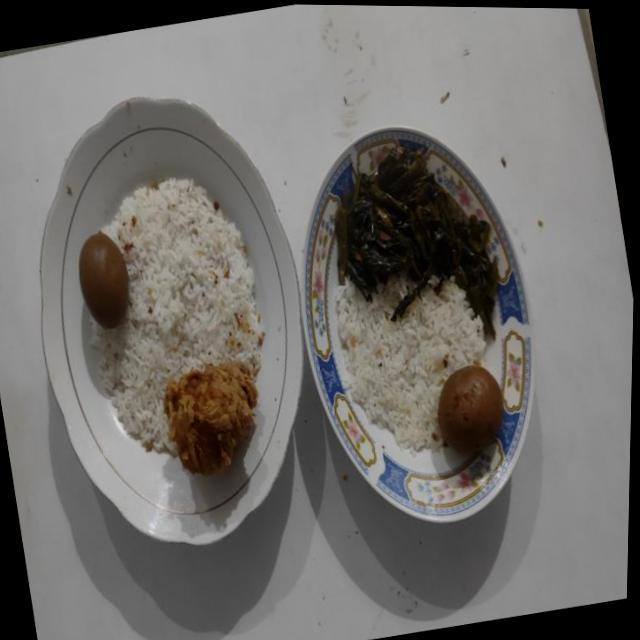nasi_putih: (93, 178, 264, 455), (335, 273, 486, 451)
tumis_kangkung: (336, 148, 498, 338)
